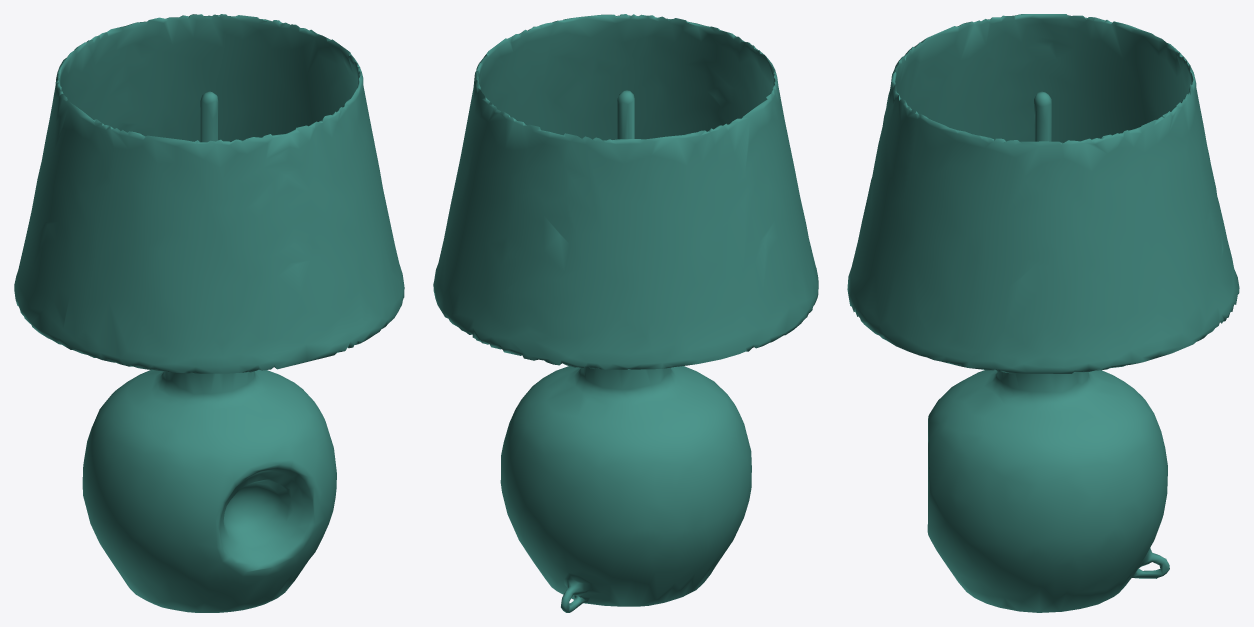
The model's file is lamp-forge-conformed.glb.
3 renders of one model, left to right at view 1: azimuth 30°, elevation 25°; view 2: azimuth 150°, elevation 25°; view 3: azimuth 270°, elevation 25°, orthographic.
Parts seen in each view (by area): view 1: Mesh_0; view 2: Mesh_0; view 3: Mesh_0.
Boxes of the visible parts, <box> form: Mesh_0: <box>14,14,404,612</box>; Mesh_0: <box>433,14,818,612</box>; Mesh_0: <box>847,14,1239,612</box>.
Bounding box in the file's own units: 0.6212 × 0.88 × 0.6223.
